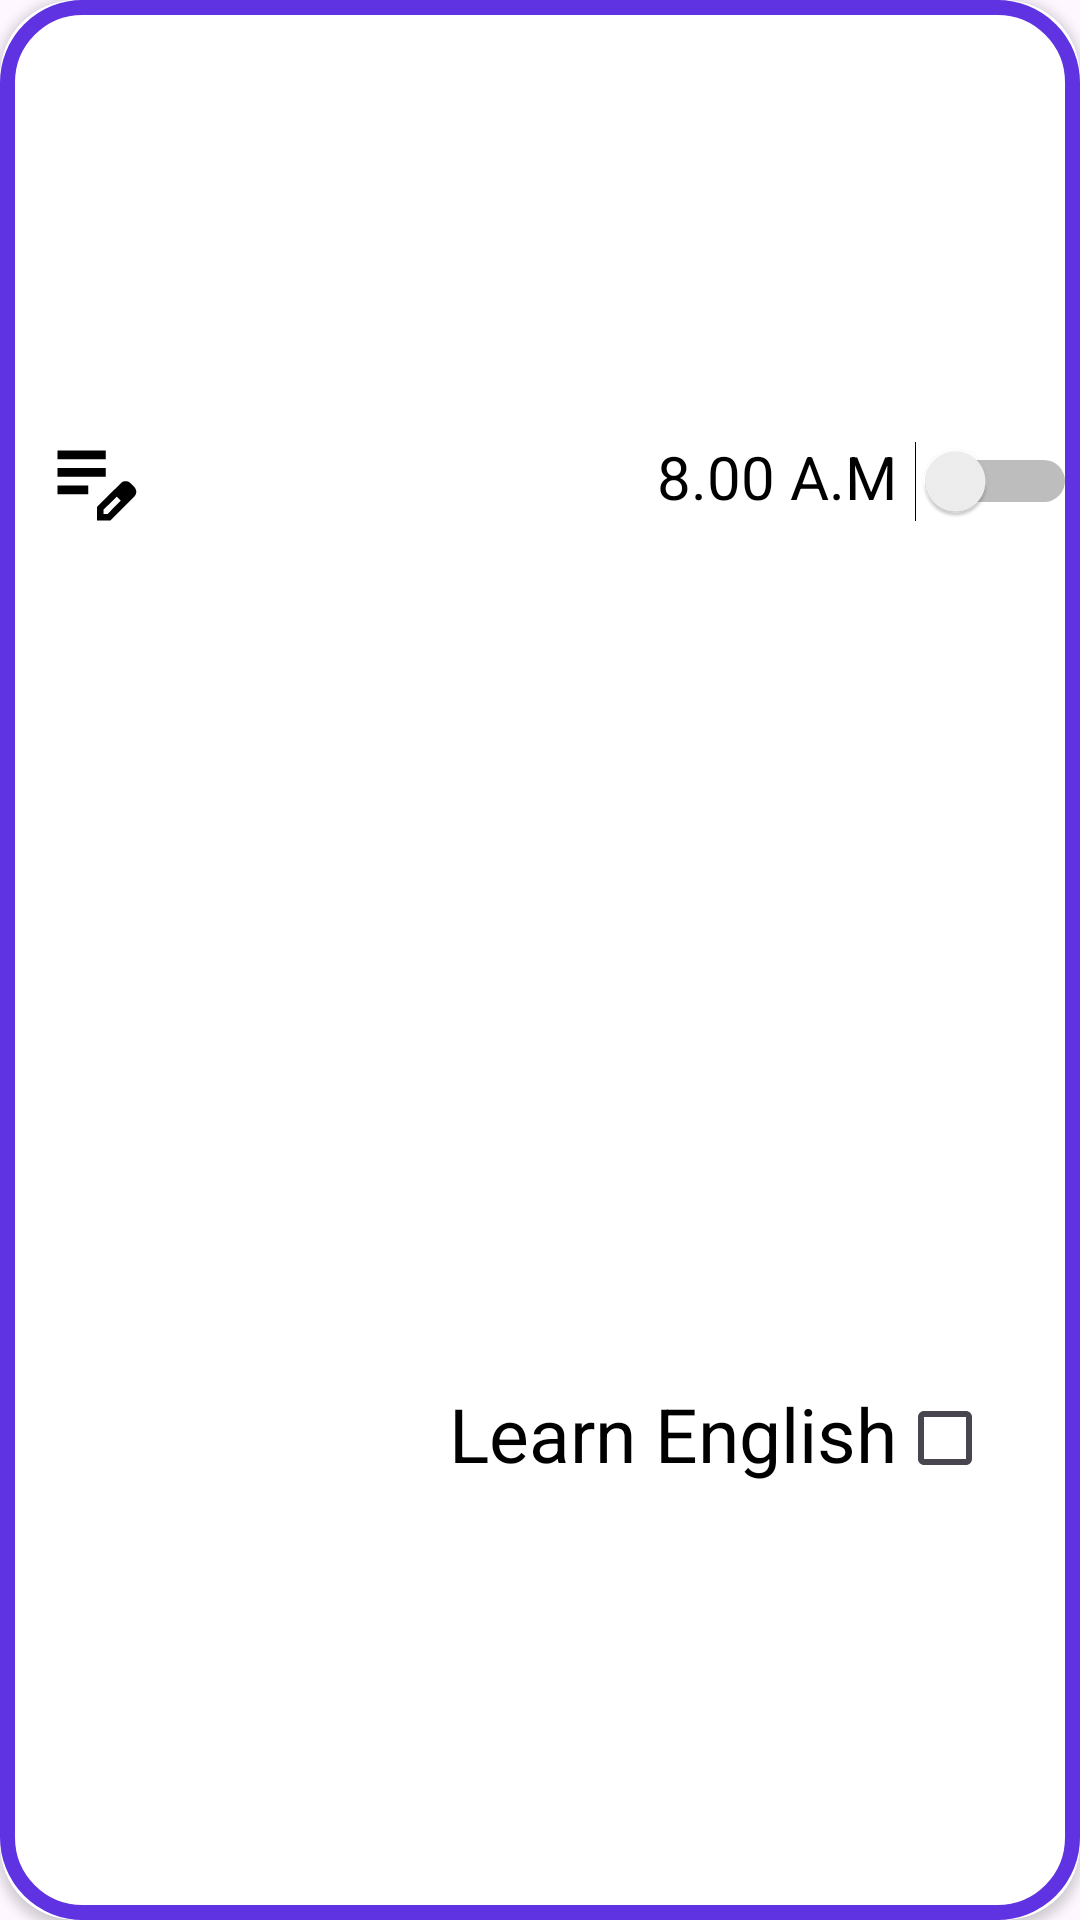

Point at icon controls on the screen. Image size 1080x1920, points as (x,y).
editnote: (97,485)
